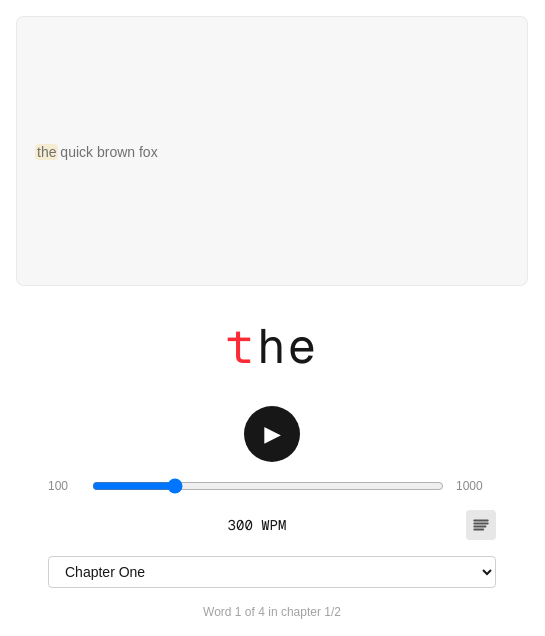
Test case: Reader › updates WPM on slider change
Set the slider named "Words per minute" to "500": (249, 486) [92,478,444,494]
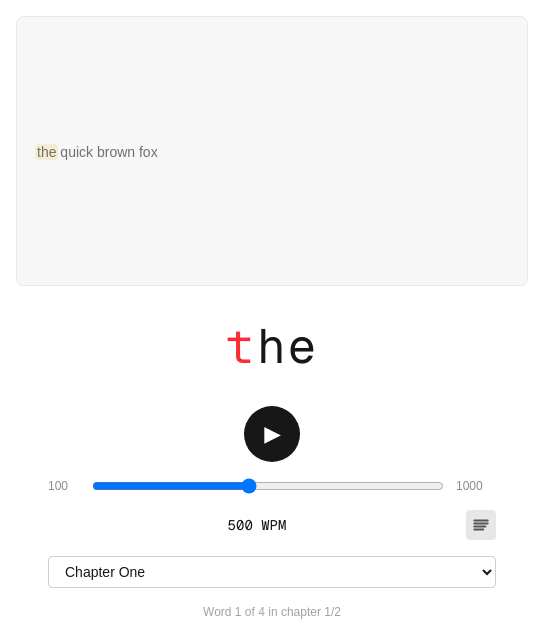
Expected: the text with test id "wpm-display" reads "500 WPM", [228,516,286,534]
